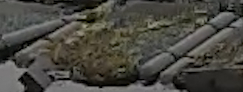bag: (16, 1, 233, 79)
